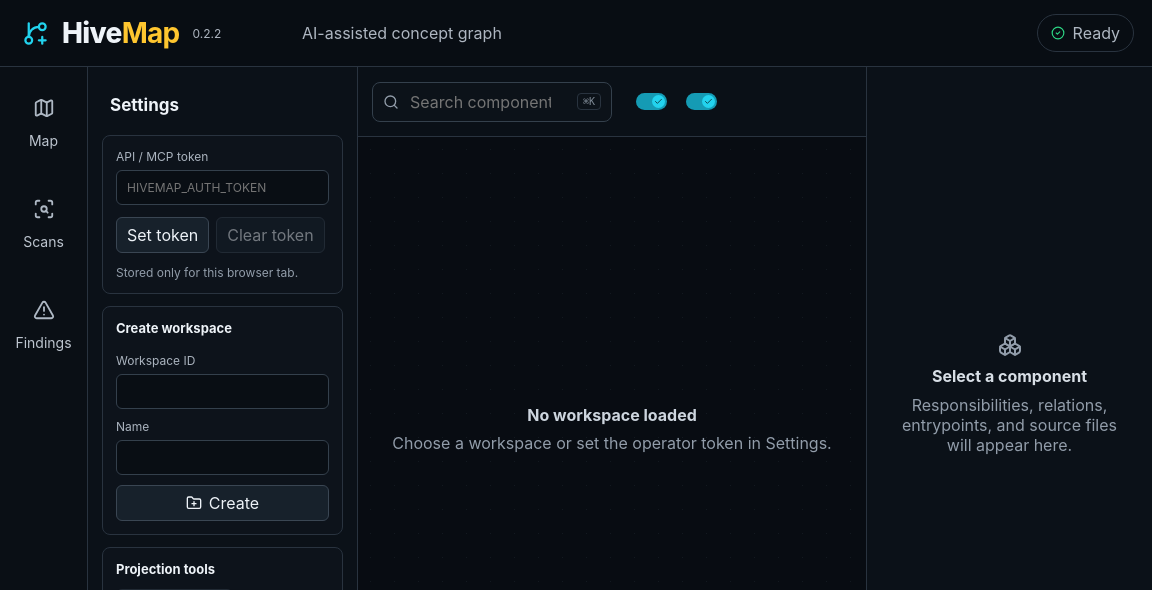
Test: App token lifecycle › loads a protected projection deep link after the token is set
Type "operator-token" into the password field labelled "API / MCP token".
click(222, 188); type("operator-token")  # box left=116, top=170, right=329, bottom=205
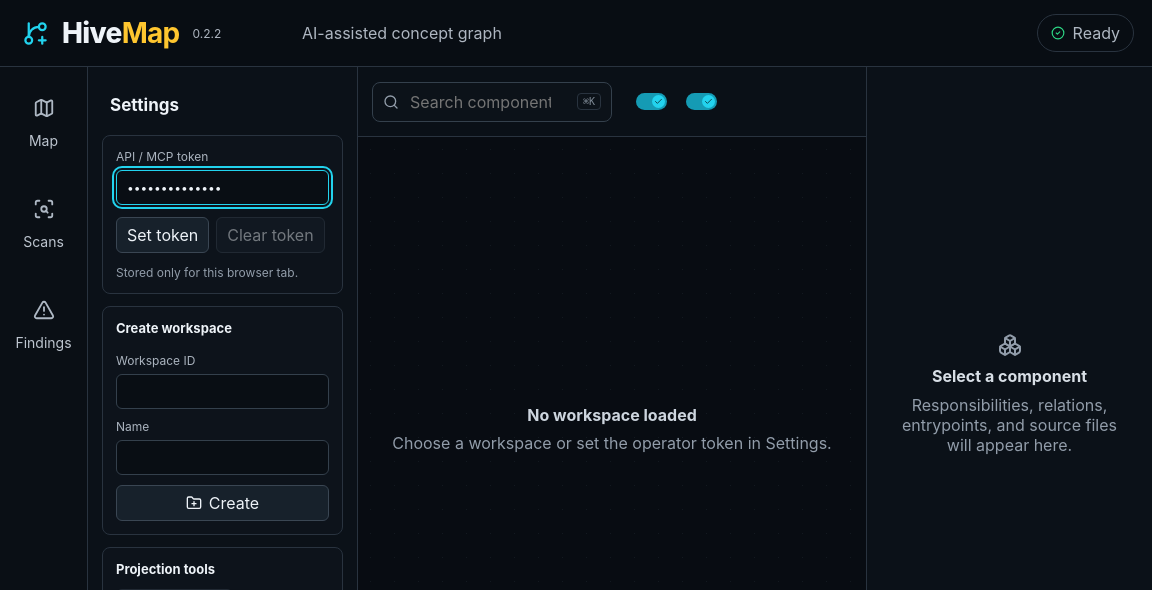
Click the button "Set token".
click(163, 235)  # box left=116, top=217, right=209, bottom=253
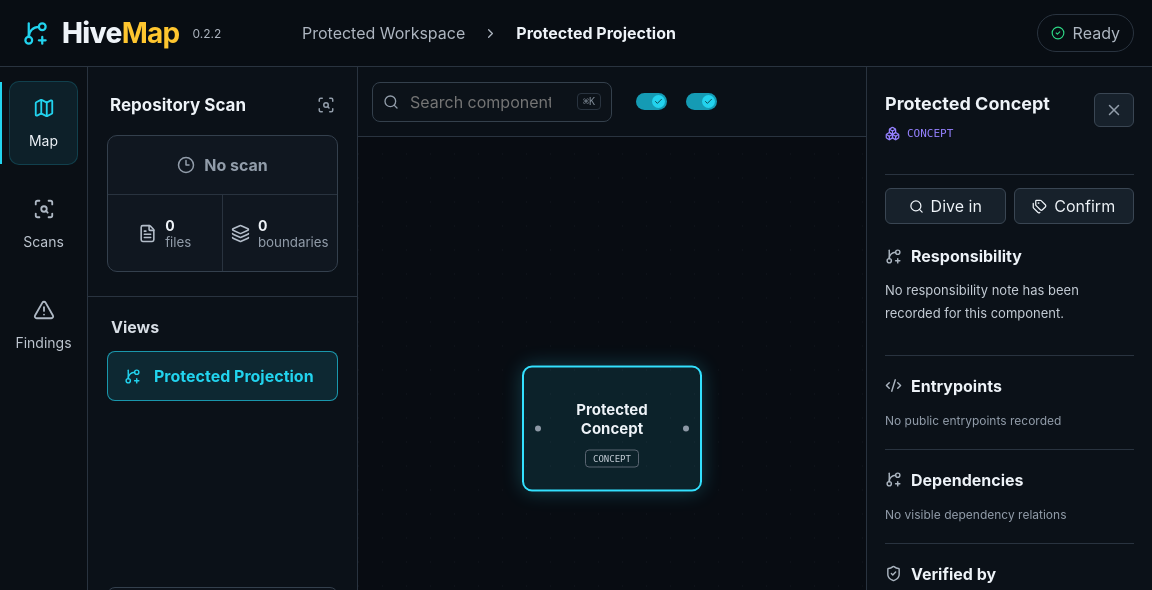
Now the text "Protected Workspace" is shown, box left=302, top=23, right=465, bottom=43
Now the 2nd text "Protected Concept" is shown, box left=576, top=400, right=648, bottom=438
